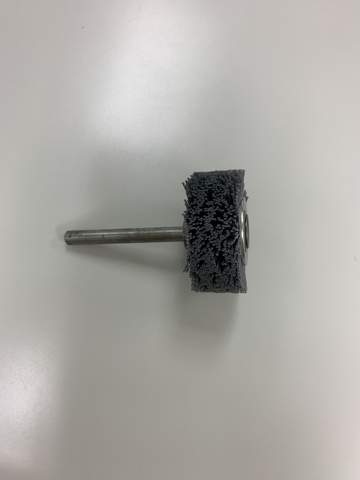Wheel Brush: (54, 164, 262, 300), (144, 154, 249, 313)
